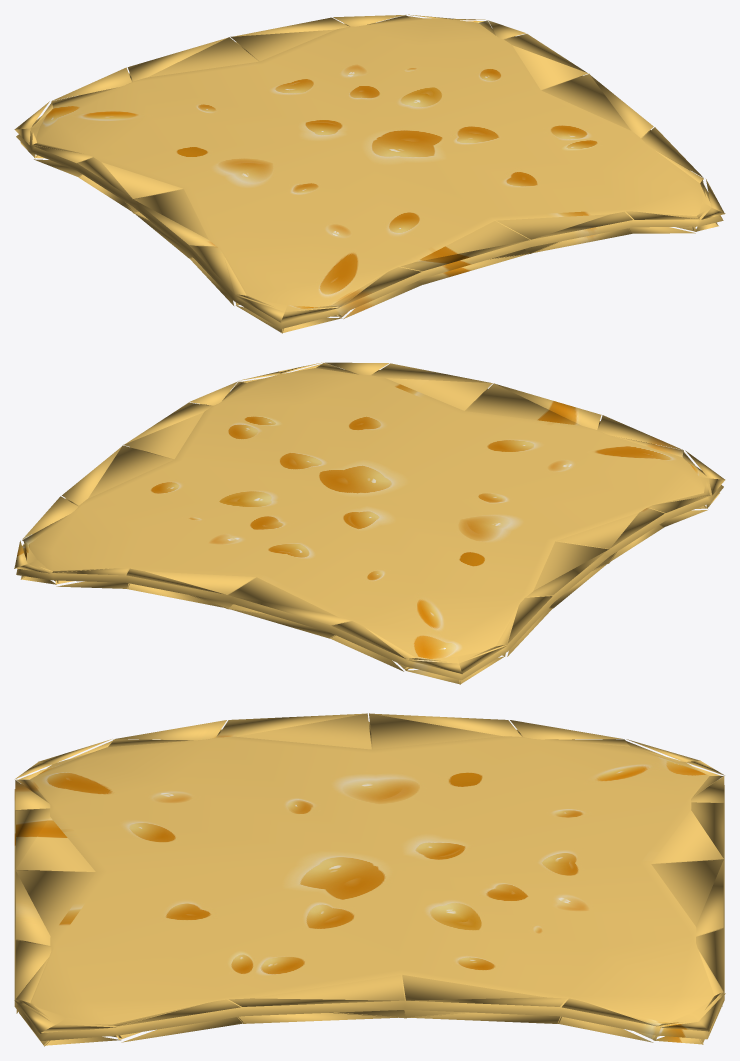
File: Cheese.fbx
3 views of the same model, one above another, from view 1: azimuth 30°, elevation 25°; view 2: azimuth 150°, elevation 25°; view 3: azimuth 270°, elevation 25° (orthographic). The views are drawn at different scales.
Visible parts, largest first — view 1: cheese; view 2: cheese; view 3: cheese.
Boxes of the visible parts, x1=… form: cheese: x1=14, y1=14, x2=725, y2=333; cheese: x1=14, y1=362, x2=725, y2=684; cheese: x1=14, y1=713, x2=725, y2=1046.
Size of the model in its own units: 177 by 15.64 by 184.
